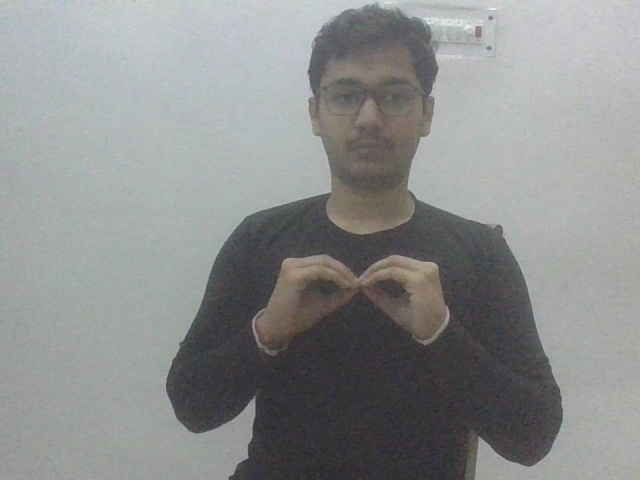B: (253, 250, 450, 355)
